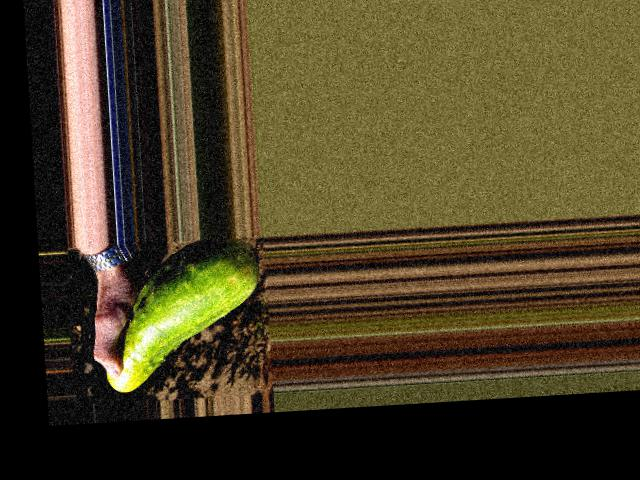cucumber: (99, 235, 267, 393)
